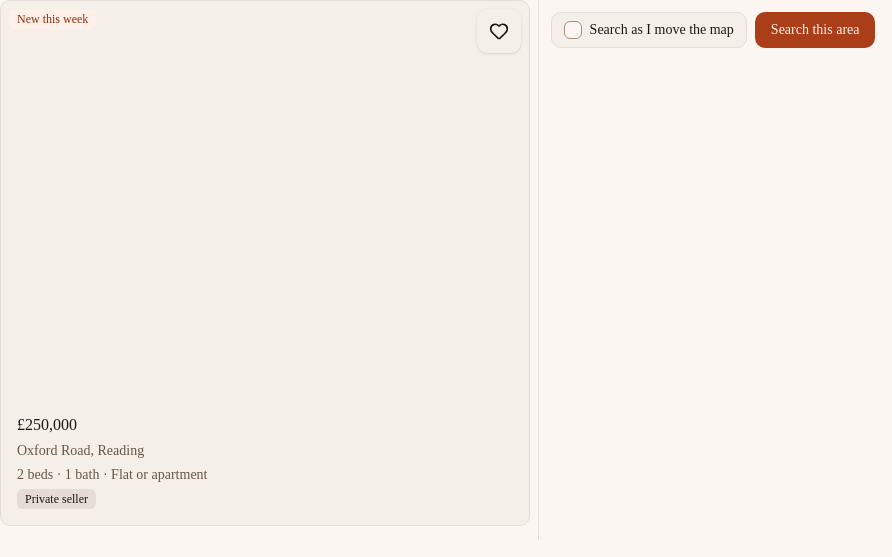
Test: MapView › shows "Search this area" after a moveend, and requeries on click
The width and height of the screenshot is (892, 557).
Click the button "Search this area": (815, 30) [755, 12, 875, 48]
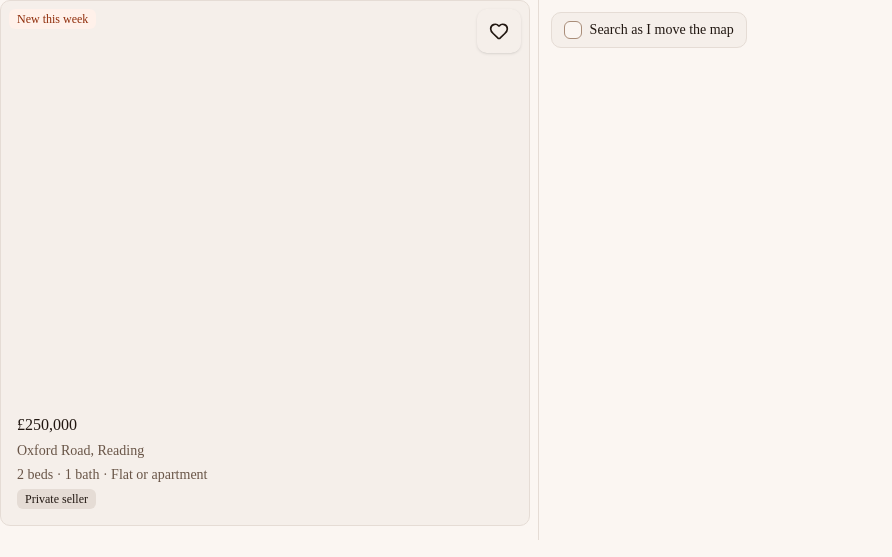
Check: the button "Search this area" is gone
